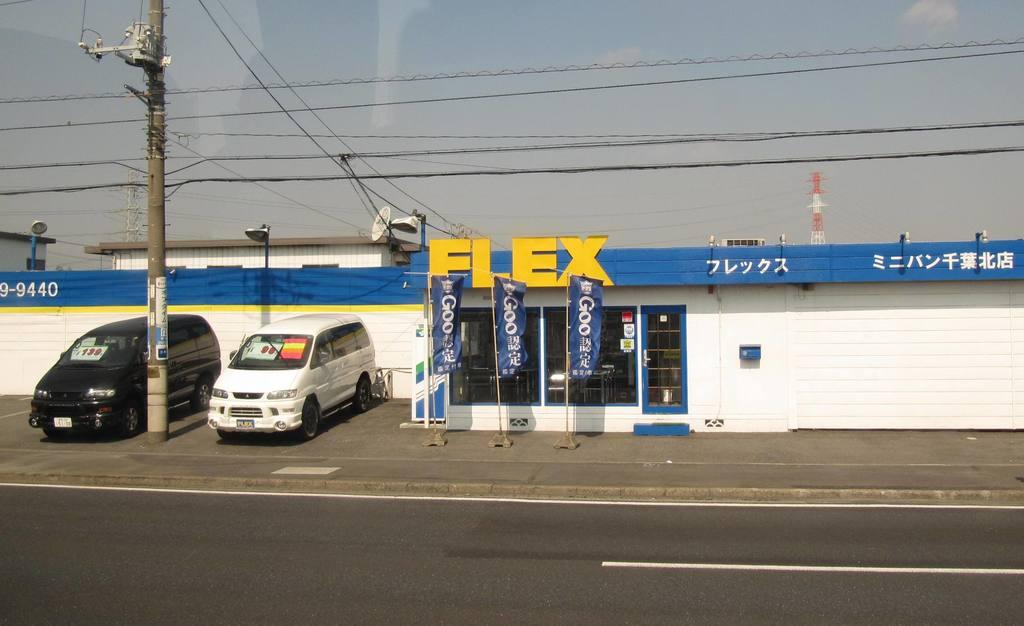vehicle: (28, 313, 221, 437), (208, 315, 374, 439)
